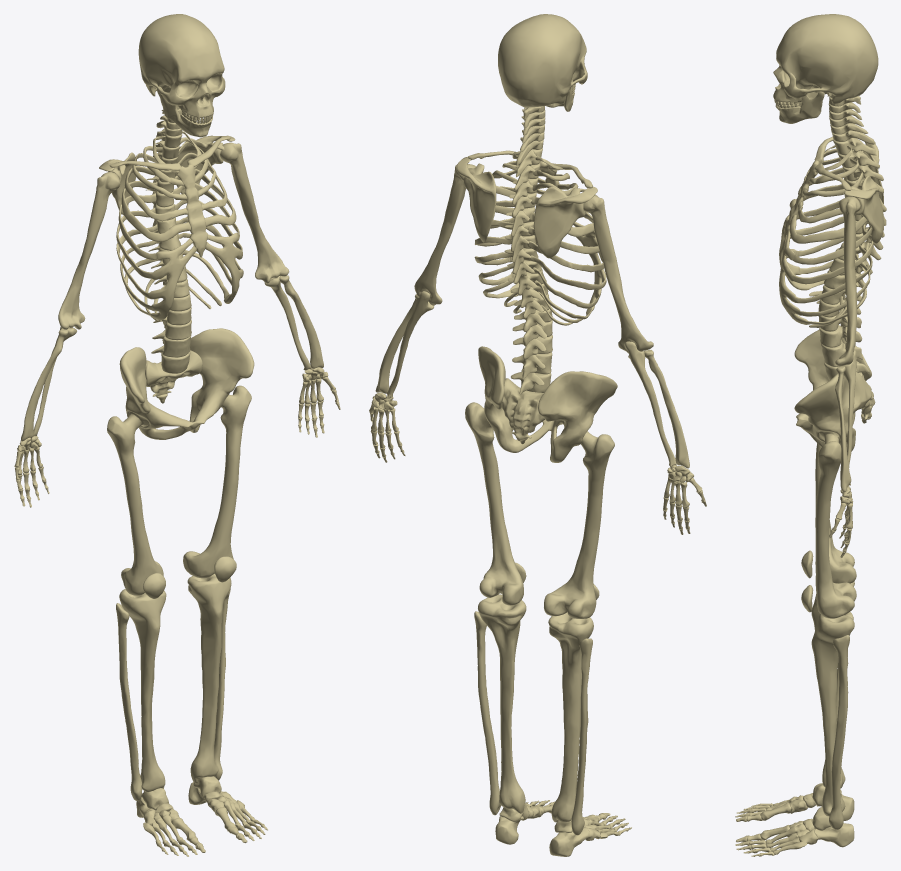
Rendered from e85ccfad-4318-4e35-9c43-888801cfb44f_anatomy_study.glb.
The picture shows the model from 3 angles, left to right: view 1: azimuth 30°, elevation 25°; view 2: azimuth 150°, elevation 25°; view 3: azimuth 270°, elevation 25°; orthographic projection. The views are drawn at different scales.
Visible parts, largest first — view 1: Object_2; view 2: Object_2; view 3: Object_2.
Boxes of the visible parts, x1,y1,x2,y2 form: Object_2: (14, 14, 340, 856); Object_2: (369, 14, 706, 856); Object_2: (735, 14, 886, 856).
Bounding box in the file's own units: 6.73 × 15.87 × 2.68.
